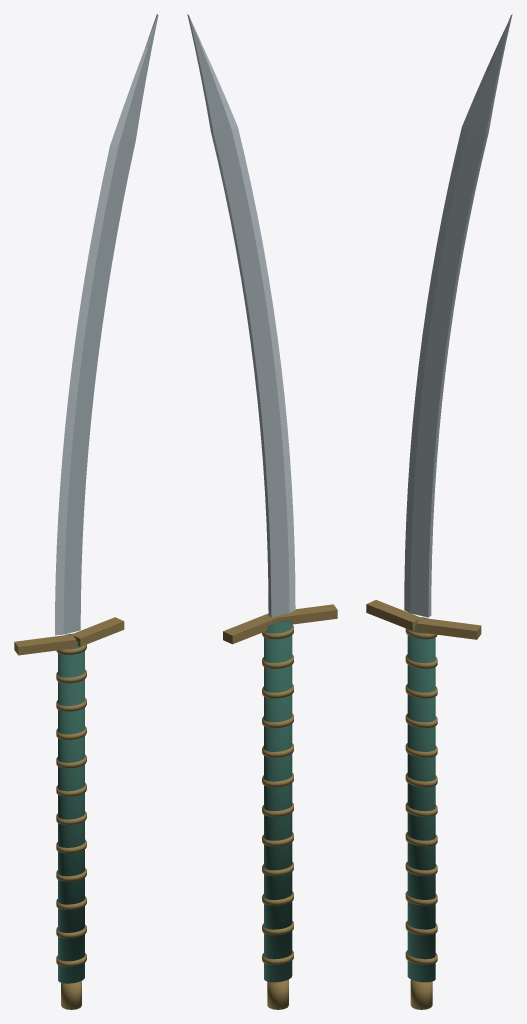
The model's file is nodachi-titan.fbx.
3 views of the same model, side by side, from view 1: azimuth 30°, elevation 25°; view 2: azimuth 210°, elevation 25°; view 3: azimuth 330°, elevation 25° (orthographic). The views are drawn at different scales.
Visible parts, largest first — view 1: NodachiTitanBlade, NodachiTitanHandle, NodachiTitanGuardWing-1, NodachiTitanGuardWing1, NodachiTitanPommelNeck; view 2: NodachiTitanBlade, NodachiTitanHandle, NodachiTitanGuardWing1, NodachiTitanGuardWing-1, NodachiTitanPommelNeck; view 3: NodachiTitanBlade, NodachiTitanHandle, NodachiTitanGuardWing1, NodachiTitanGuardWing-1, NodachiTitanPommelNeck.
Part boxes in pixels (x1=…): NodachiTitanBlade: x1=55, y1=14, x2=158, y2=635; NodachiTitanHandle: x1=58, y1=633, x2=84, y2=983; NodachiTitanGuardWing-1: x1=14, y1=634, x2=76, y2=655; NodachiTitanGuardWing1: x1=71, y1=617, x2=124, y2=646; NodachiTitanPommelNeck: x1=61, y1=981, x2=81, y2=1009; NodachiTitanBlade: x1=187, y1=14, x2=295, y2=617; NodachiTitanHandle: x1=264, y1=620, x2=292, y2=982; NodachiTitanGuardWing1: x1=223, y1=613, x2=278, y2=644; NodachiTitanGuardWing-1: x1=277, y1=604, x2=337, y2=624; NodachiTitanPommelNeck: x1=267, y1=979, x2=288, y2=1009; NodachiTitanBlade: x1=404, y1=14, x2=512, y2=617; NodachiTitanHandle: x1=407, y1=617, x2=435, y2=982; NodachiTitanGuardWing1: x1=416, y1=617, x2=481, y2=639; NodachiTitanGuardWing-1: x1=366, y1=600, x2=420, y2=630; NodachiTitanPommelNeck: x1=410, y1=979, x2=432, y2=1009.
Size of the model in its own units: 0.2441 by 1.62 by 0.0406.
